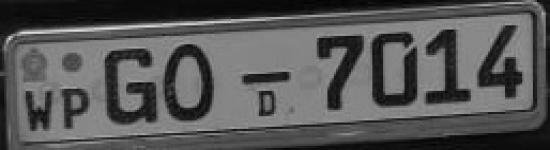-: (234, 66, 302, 88)
0: (369, 27, 420, 111)
1: (421, 22, 476, 109)
4: (475, 19, 530, 106)
7: (309, 32, 368, 112)
G: (99, 42, 164, 128)
O: (165, 42, 223, 125)
P: (58, 84, 92, 132)
W: (19, 84, 58, 134)
